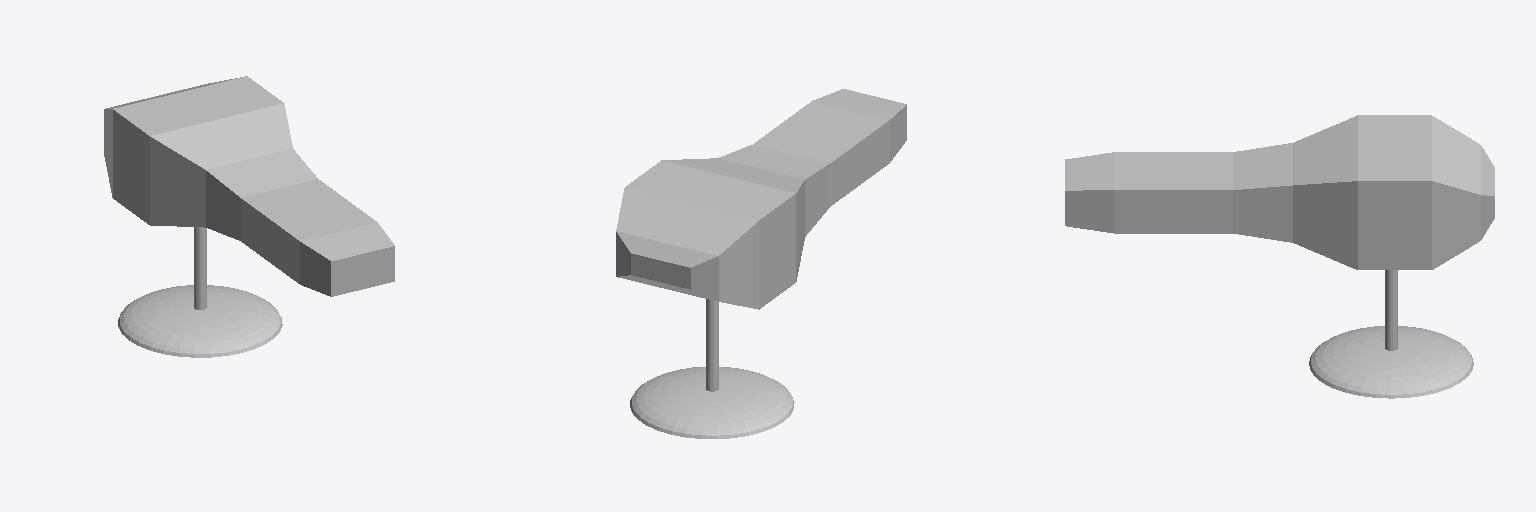
File: Basic Spacecraft.obj
3 views of the same model, side by side, from view 1: azimuth 30°, elevation 25°; view 2: azimuth 150°, elevation 25°; view 3: azimuth 270°, elevation 25° (orthographic).
Parts seen in each view (by area): view 1: Куб, Цилиндр; view 2: Куб, Цилиндр; view 3: Куб, Цилиндр.
Boxes of the visible parts, x1,y1,x2,y2 form: Куб: [104, 76, 394, 296]; Цилиндр: [118, 227, 282, 357]; Куб: [616, 89, 906, 309]; Цилиндр: [630, 299, 794, 438]; Куб: [1065, 115, 1494, 269]; Цилиндр: [1309, 270, 1473, 398].
Size of the model in its own units: 3.37 by 4.86 by 8.78.